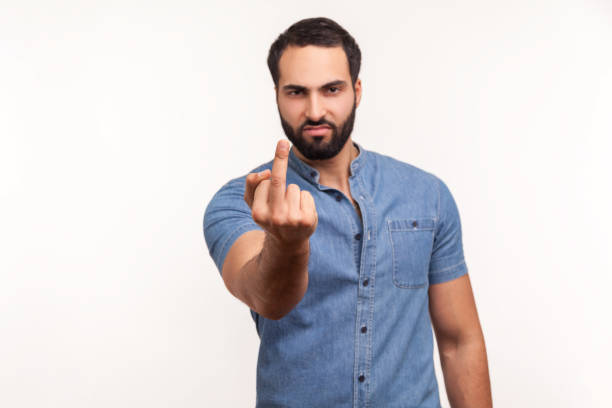insulting_gesture: (242, 138, 317, 241)
